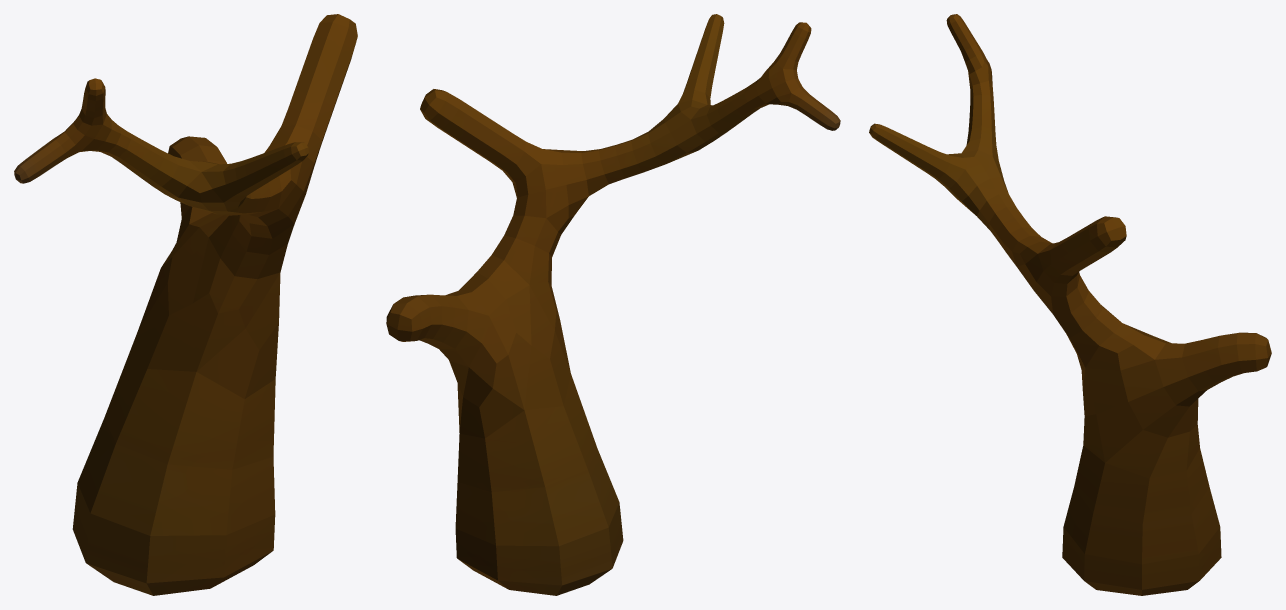
The model's file is arbol4.fbx.
3 views of the same model, side by side, from view 1: azimuth 30°, elevation 25°; view 2: azimuth 150°, elevation 25°; view 3: azimuth 270°, elevation 25° (orthographic). The views are drawn at different scales.
Parts seen in each view (by area): view 1: Plane.004; view 2: Plane.004; view 3: Plane.004.
Boxes of the visible parts, x1,y1,x2,y2 form: Plane.004: (14,14,357,595); Plane.004: (386,14,840,595); Plane.004: (869,14,1271,595).
Size of the model in its own units: 197 by 279 by 208.
